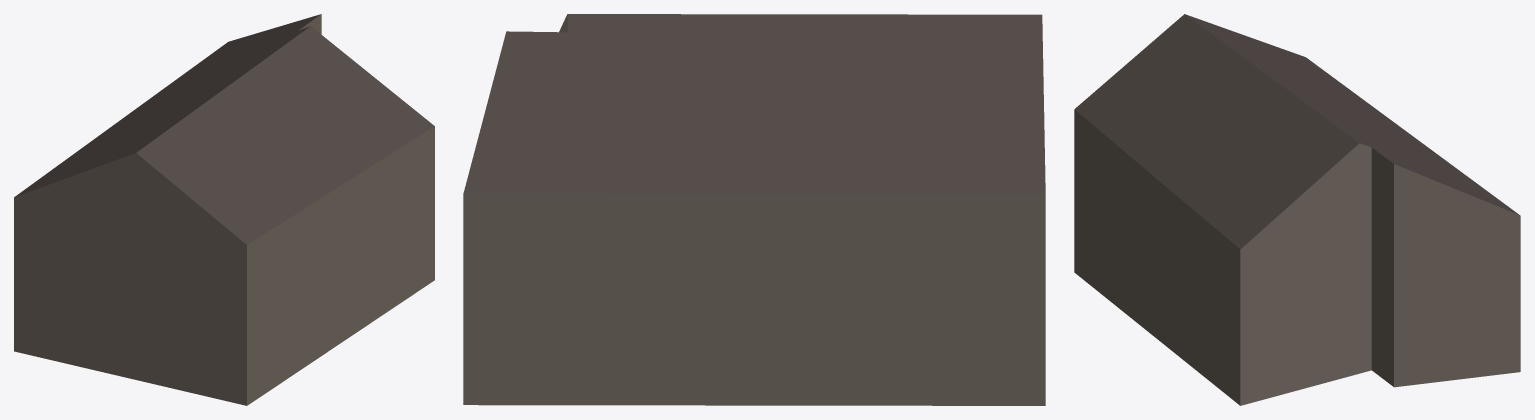
3 views of the same model, side by side, from view 1: azimuth 30°, elevation 25°; view 2: azimuth 150°, elevation 25°; view 3: azimuth 270°, elevation 25° (orthographic). The views are drawn at different scales.
Visible parts, largest first — view 1: HP-w783664798; view 2: HP-w783664798; view 3: HP-w783664798.
Part boxes in pixels (x1,y1,x2,y2): HP-w783664798: (14, 14, 434, 405); HP-w783664798: (463, 14, 1045, 405); HP-w783664798: (1074, 14, 1520, 405).
Size of the model in its own units: 23.74 by 13.26 by 23.27.
